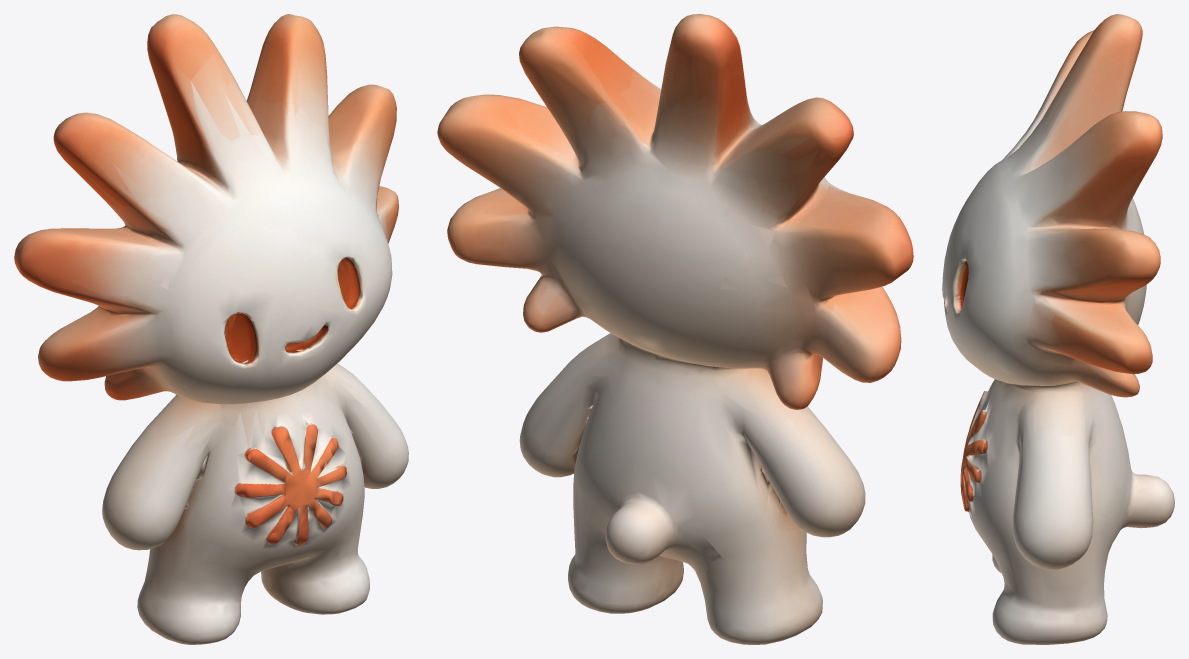
The model's file is agent.glb.
The picture shows the model from 3 angles, left to right: view 1: azimuth 30°, elevation 25°; view 2: azimuth 150°, elevation 25°; view 3: azimuth 270°, elevation 25°; orthographic projection. The views are drawn at different scales.
Visible parts, largest first — view 1: tripo_node_c8a4173f-defb-44ed-a054-f135582deb47; view 2: tripo_node_c8a4173f-defb-44ed-a054-f135582deb47; view 3: tripo_node_c8a4173f-defb-44ed-a054-f135582deb47.
Part boxes in pixels (x1,y1,x2,y2): tripo_node_c8a4173f-defb-44ed-a054-f135582deb47: [14, 14, 408, 644]; tripo_node_c8a4173f-defb-44ed-a054-f135582deb47: [437, 14, 913, 644]; tripo_node_c8a4173f-defb-44ed-a054-f135582deb47: [942, 14, 1174, 644].
Size of the model in its own units: 0.7243 by 1 by 0.3742.
1 material, 1 textured.
